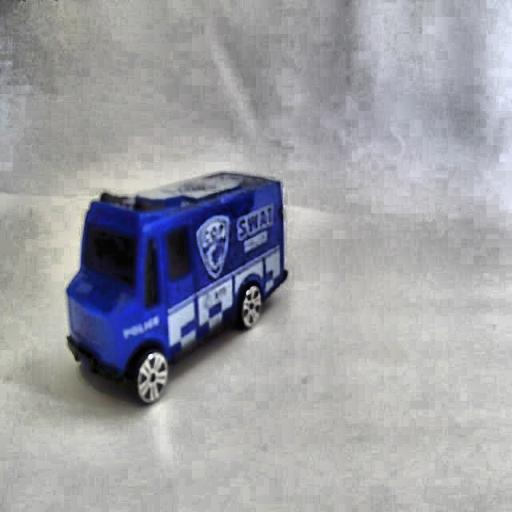police car: (62, 159, 300, 408)
